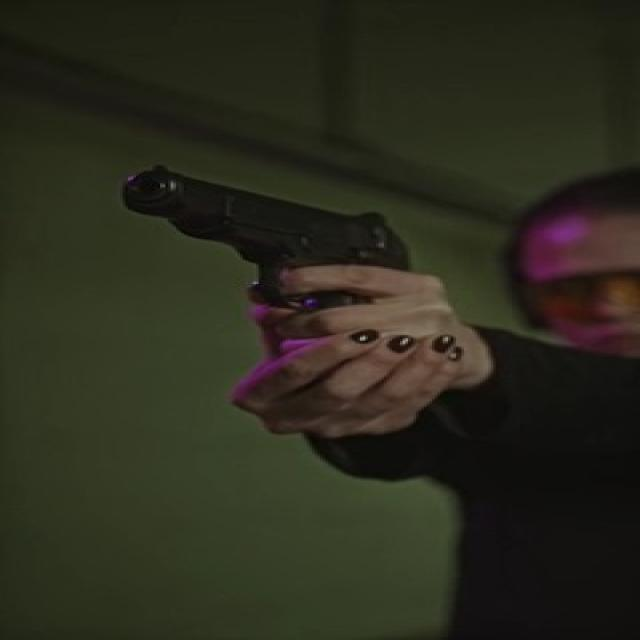Gun_Holder: (90, 161, 530, 479)
Person: (248, 139, 640, 640)
